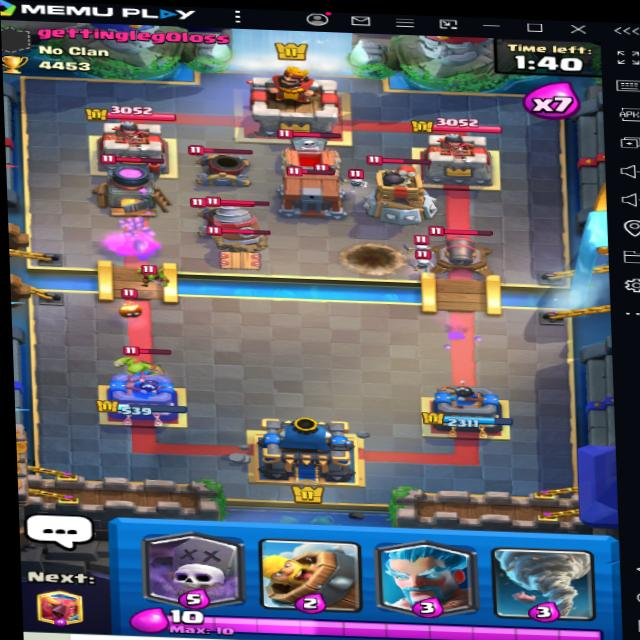bomb-tower: (364, 155, 438, 225)
brawler: (104, 341, 180, 388)
cannon: (422, 224, 508, 277)
fire-spirit: (109, 285, 157, 323)
furnace: (90, 149, 172, 217)
goblin: (131, 258, 171, 293)
goblin-cage: (275, 164, 352, 220)
goblin-drill: (200, 191, 281, 254)
mortar: (183, 140, 259, 193)
skeleton: (401, 248, 439, 276), (405, 230, 438, 259), (344, 165, 372, 188)
tesla-closed: (195, 223, 280, 276)
tombstone: (269, 127, 345, 181)
